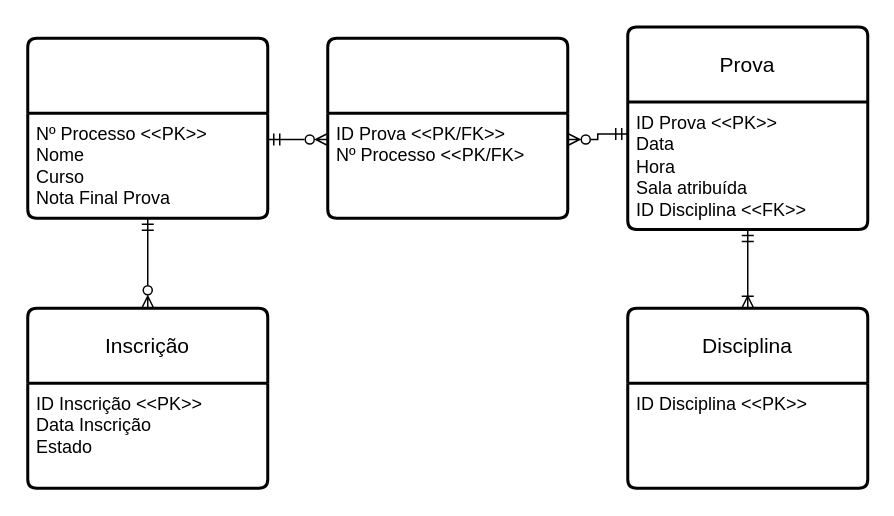
Image size: 894x516. Some labels were removed from this diagram. The box of each missing label's shape, as (x1, y1, x2, y2) in pixels:
Aluno: (26, 36, 268, 219)
Aluno-Prova: (326, 36, 568, 219)
